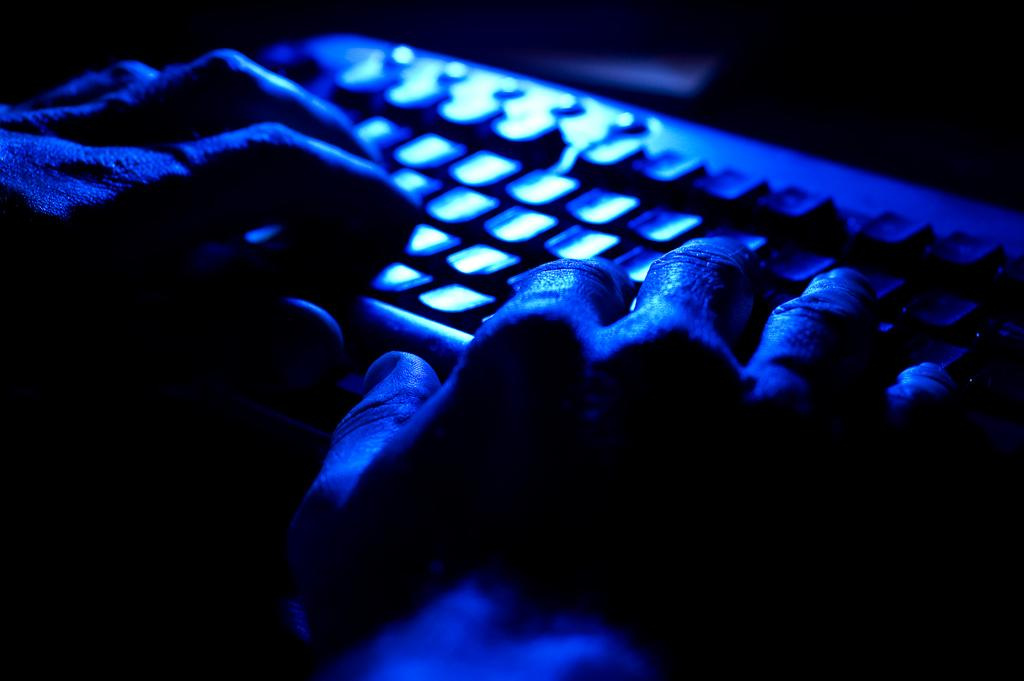Computer-keyboard: (203, 30, 1023, 382)
